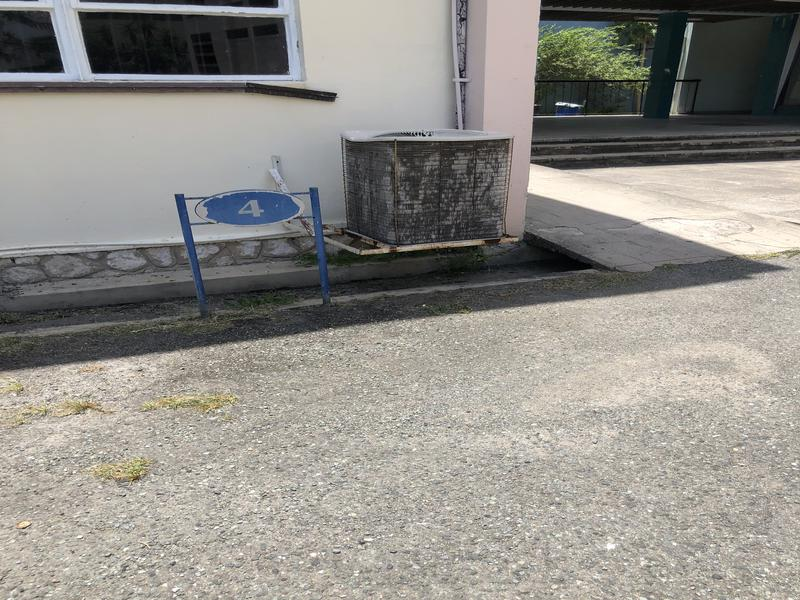18.0053530_-76.7490375_signatentrancetoscitech: (150, 173, 345, 321)
